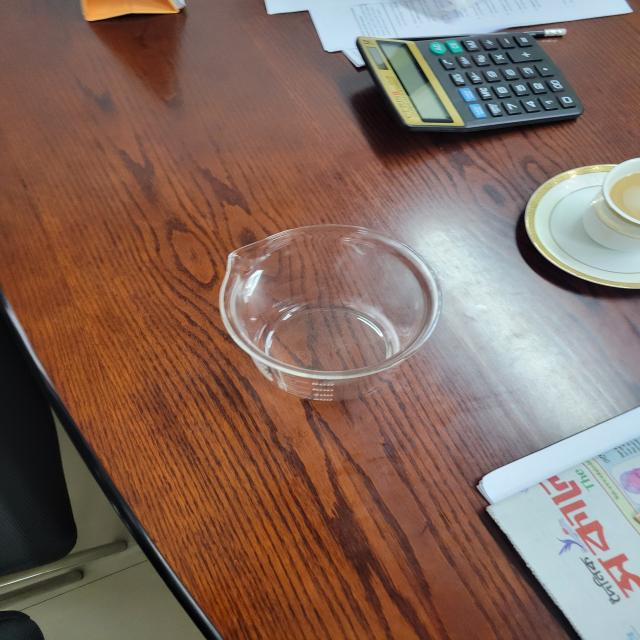Beaker: (216, 220, 451, 408)
